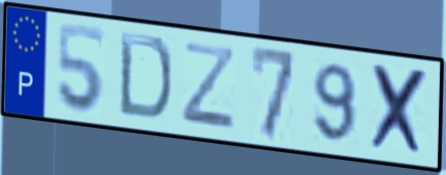5: (56, 18, 108, 118)
7: (249, 43, 297, 143)
9: (309, 60, 364, 145)
D: (116, 29, 175, 124)
X: (368, 60, 432, 161)
Z: (179, 39, 237, 134)
